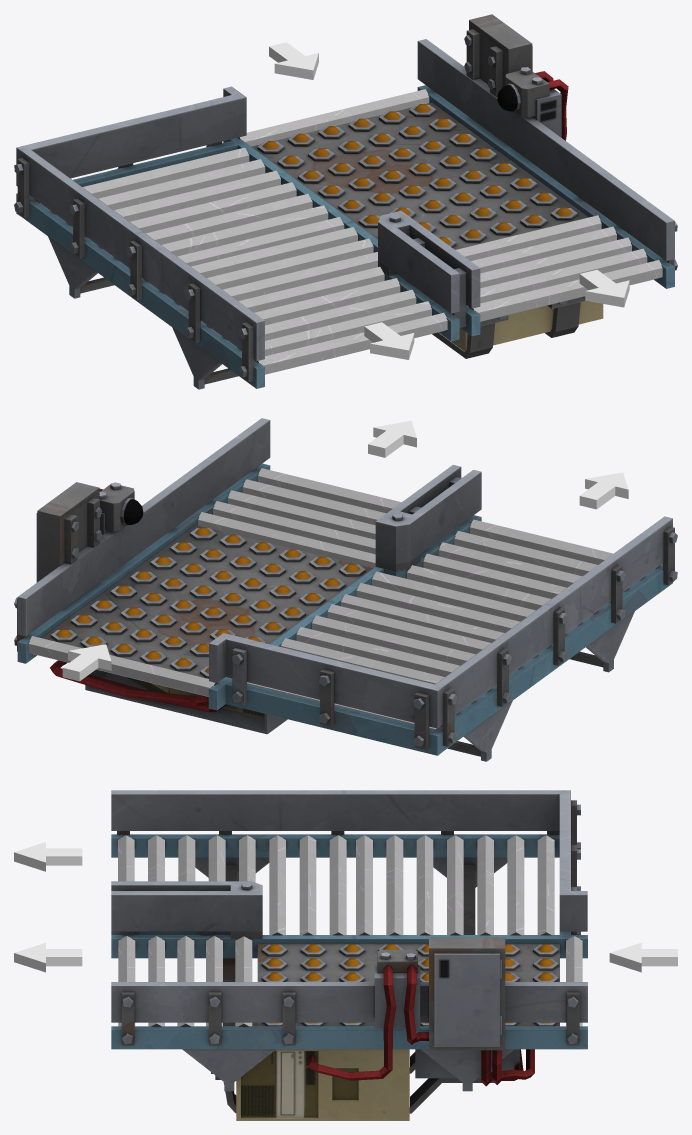
Rendered from RollerConveyorSplitter_Right.glb.
The picture shows the model from 3 angles, top to bottom: view 1: azimuth 30°, elevation 25°; view 2: azimuth 150°, elevation 25°; view 3: azimuth 270°, elevation 25°; orthographic projection. The views are drawn at different scales.
Visible parts, largest first — view 1: RollerSplitter_Right-MODEL, ghostarrow, ghostarrow (2), ghostarrow (1); view 2: RollerSplitter_Right-MODEL, ghostarrow (2), ghostarrow (1), ghostarrow; view 3: RollerSplitter_Right-MODEL, ghostarrow, ghostarrow (2), ghostarrow (1).
Boxes of the visible parts, x1,y1,x2,y2 form: RollerSplitter_Right-MODEL: (14,14,677,389); ghostarrow: (579,270,629,307); ghostarrow (2): (364,322,414,359); ghostarrow (1): (269,42,318,79); RollerSplitter_Right-MODEL: (14,418,677,761); ghostarrow (2): (579,472,628,509); ghostarrow (1): (62,644,111,681); ghostarrow: (368,420,416,457); RollerSplitter_Right-MODEL: (111,790,587,1120); ghostarrow: (14,942,82,972); ghostarrow (2): (14,842,82,871); ghostarrow (1): (609,942,677,972).
Size of the model in its own units: 2.16 by 0.8929 by 2.79.
4 materials, 2 textured.
